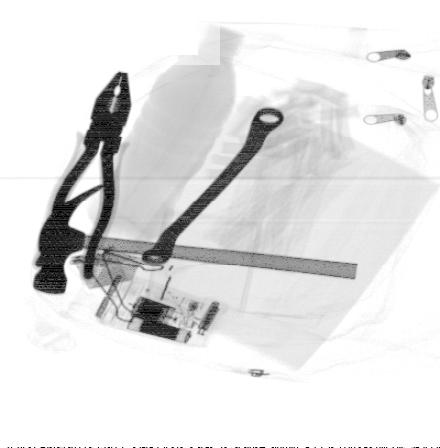Hammer: (30, 182, 361, 294)
Pliers: (32, 69, 133, 282)
Wrench: (139, 107, 284, 266)
